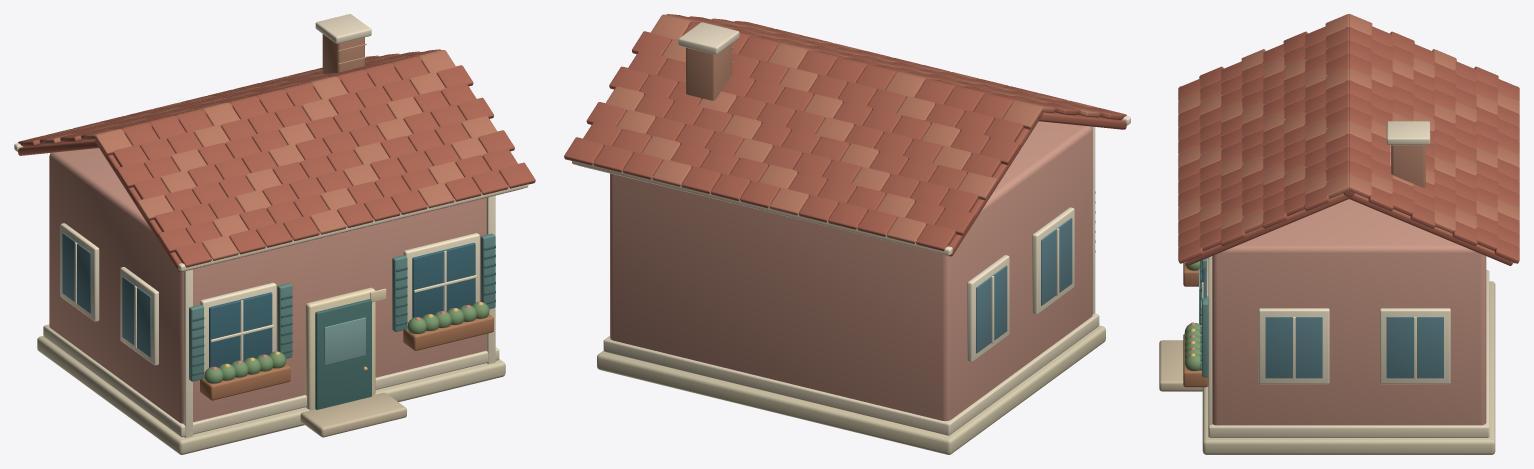
The model's file is peach_house.glb.
3 views of the same model, side by side, from view 1: azimuth 30°, elevation 25°; view 2: azimuth 150°, elevation 25°; view 3: azimuth 270°, elevation 25° (orthographic). The views are drawn at different scales.
Parts seen in each view (by area): view 1: Foundation; view 2: Foundation; view 3: Foundation.
Boxes of the visible parts, x1,y1,x2,y2 form: Foundation: (14, 14, 535, 454); Foundation: (564, 14, 1130, 454); Foundation: (1159, 14, 1519, 454).
Bounding box in the file's own units: 9.12 × 7.15 × 7.88.
